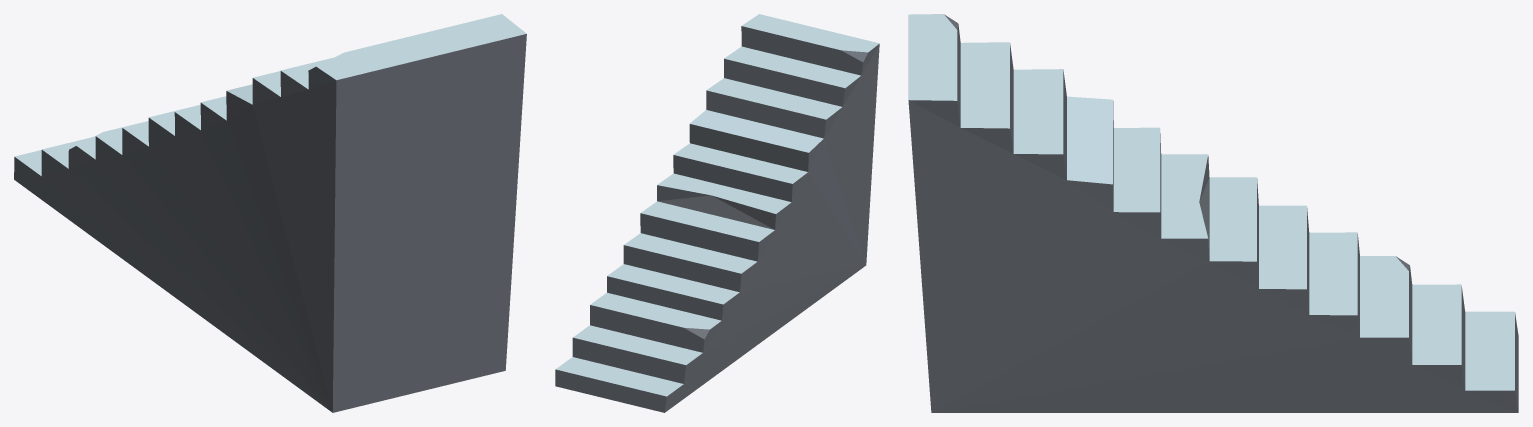
Rendered from SM_Prop_Stairs_Stone_03_Snow.fbx.
3 views of the same model, side by side, from view 1: azimuth 30°, elevation 25°; view 2: azimuth 150°, elevation 25°; view 3: azimuth 270°, elevation 25° (orthographic). The views are drawn at different scales.
Parts seen in each view (by area): view 1: SM_Prop_Stairs_Stone_03_Snow; view 2: SM_Prop_Stairs_Stone_03_Snow; view 3: SM_Prop_Stairs_Stone_03_Snow.
Boxes of the visible parts, box(x1,y1,x2,y2) form: SM_Prop_Stairs_Stone_03_Snow: box(14, 14, 526, 412); SM_Prop_Stairs_Stone_03_Snow: box(555, 14, 879, 412); SM_Prop_Stairs_Stone_03_Snow: box(908, 14, 1518, 412).
Size of the model in its own units: 53.7 by 91.3 by 159.
Materials: 1 (1 with a texture image).
